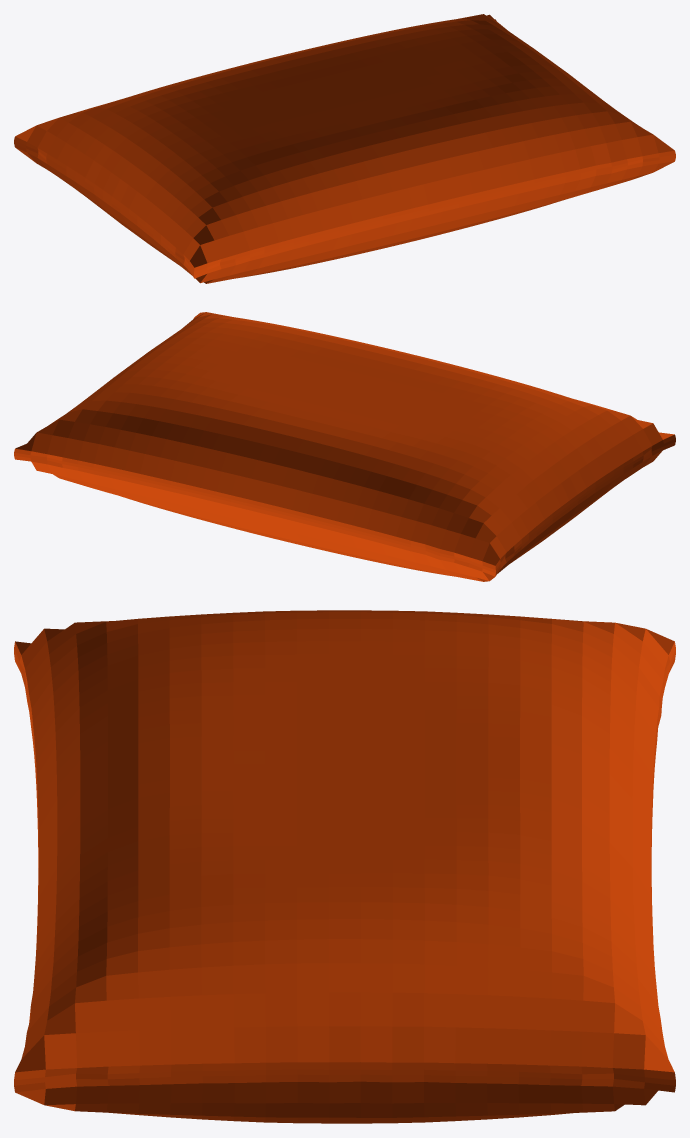
File: Pillow 3.fbx
The picture shows the model from 3 angles, top to bottom: view 1: azimuth 30°, elevation 25°; view 2: azimuth 150°, elevation 25°; view 3: azimuth 270°, elevation 25°; orthographic projection. The views are drawn at different scales.
Visible parts, largest first — view 1: Node 0; view 2: Node 0; view 3: Node 0.
Part boxes in pixels (bbox=[...]): Node 0: bbox=[14, 14, 675, 283]; Node 0: bbox=[14, 312, 675, 581]; Node 0: bbox=[14, 610, 675, 1123].
Bounding box in the file's own units: 0.6738 × 0.2318 × 1.04.
